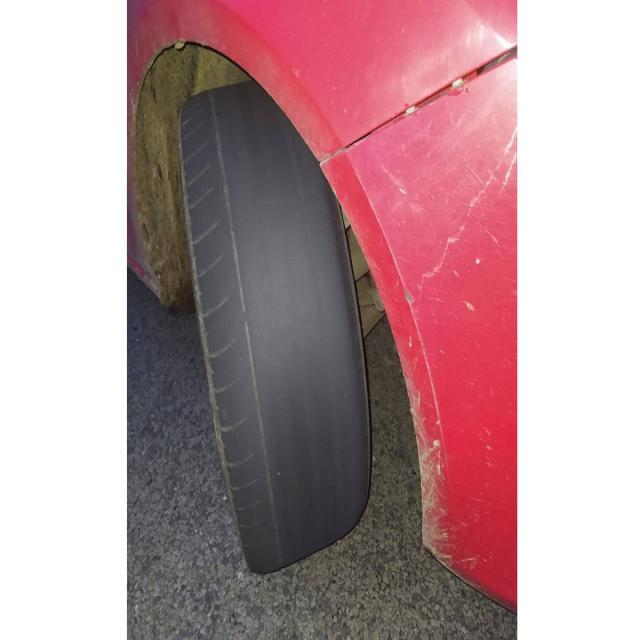Flat spots: (228, 252, 348, 532)
